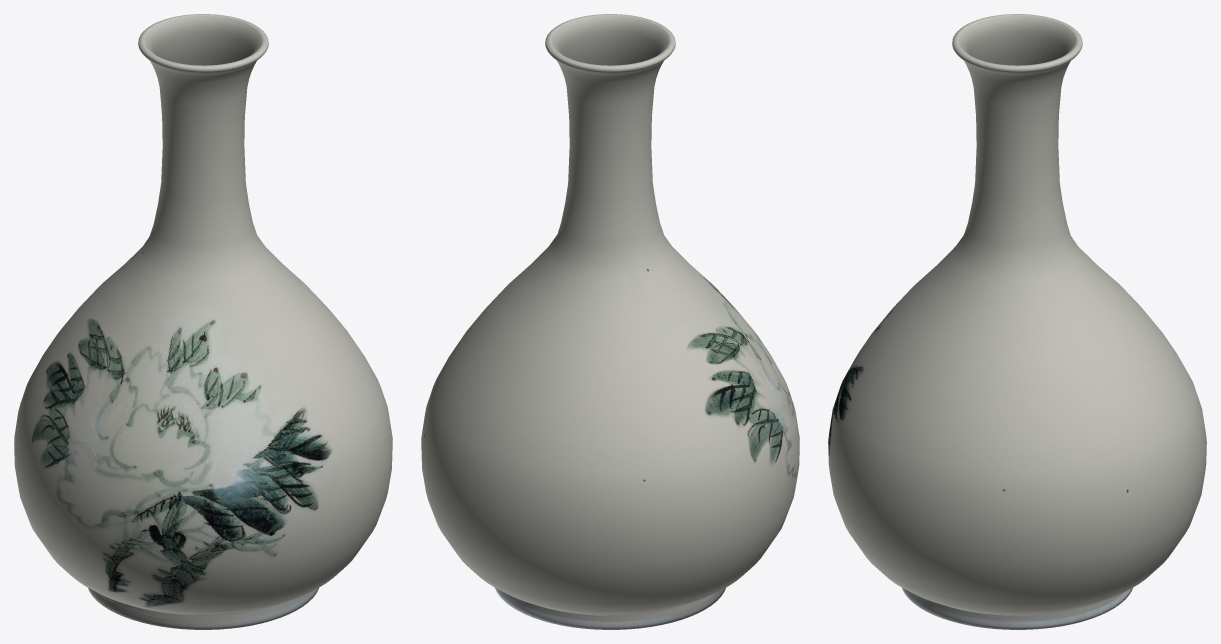
File: SM_WhitePorcelainBottle.fbx
3 renders of one model, left to right at view 1: azimuth 30°, elevation 25°; view 2: azimuth 150°, elevation 25°; view 3: azimuth 270°, elevation 25°, orthographic.
Visible parts, largest first — view 1: SM_WhitePorcelainBottle; view 2: SM_WhitePorcelainBottle; view 3: SM_WhitePorcelainBottle.
Part boxes in pixels (box(x1,y1,x2,y2)): SM_WhitePorcelainBottle: box(14, 14, 392, 629); SM_WhitePorcelainBottle: box(421, 14, 799, 629); SM_WhitePorcelainBottle: box(828, 14, 1206, 629).
Size of the model in its own units: 14.77 by 23.26 by 14.77.
